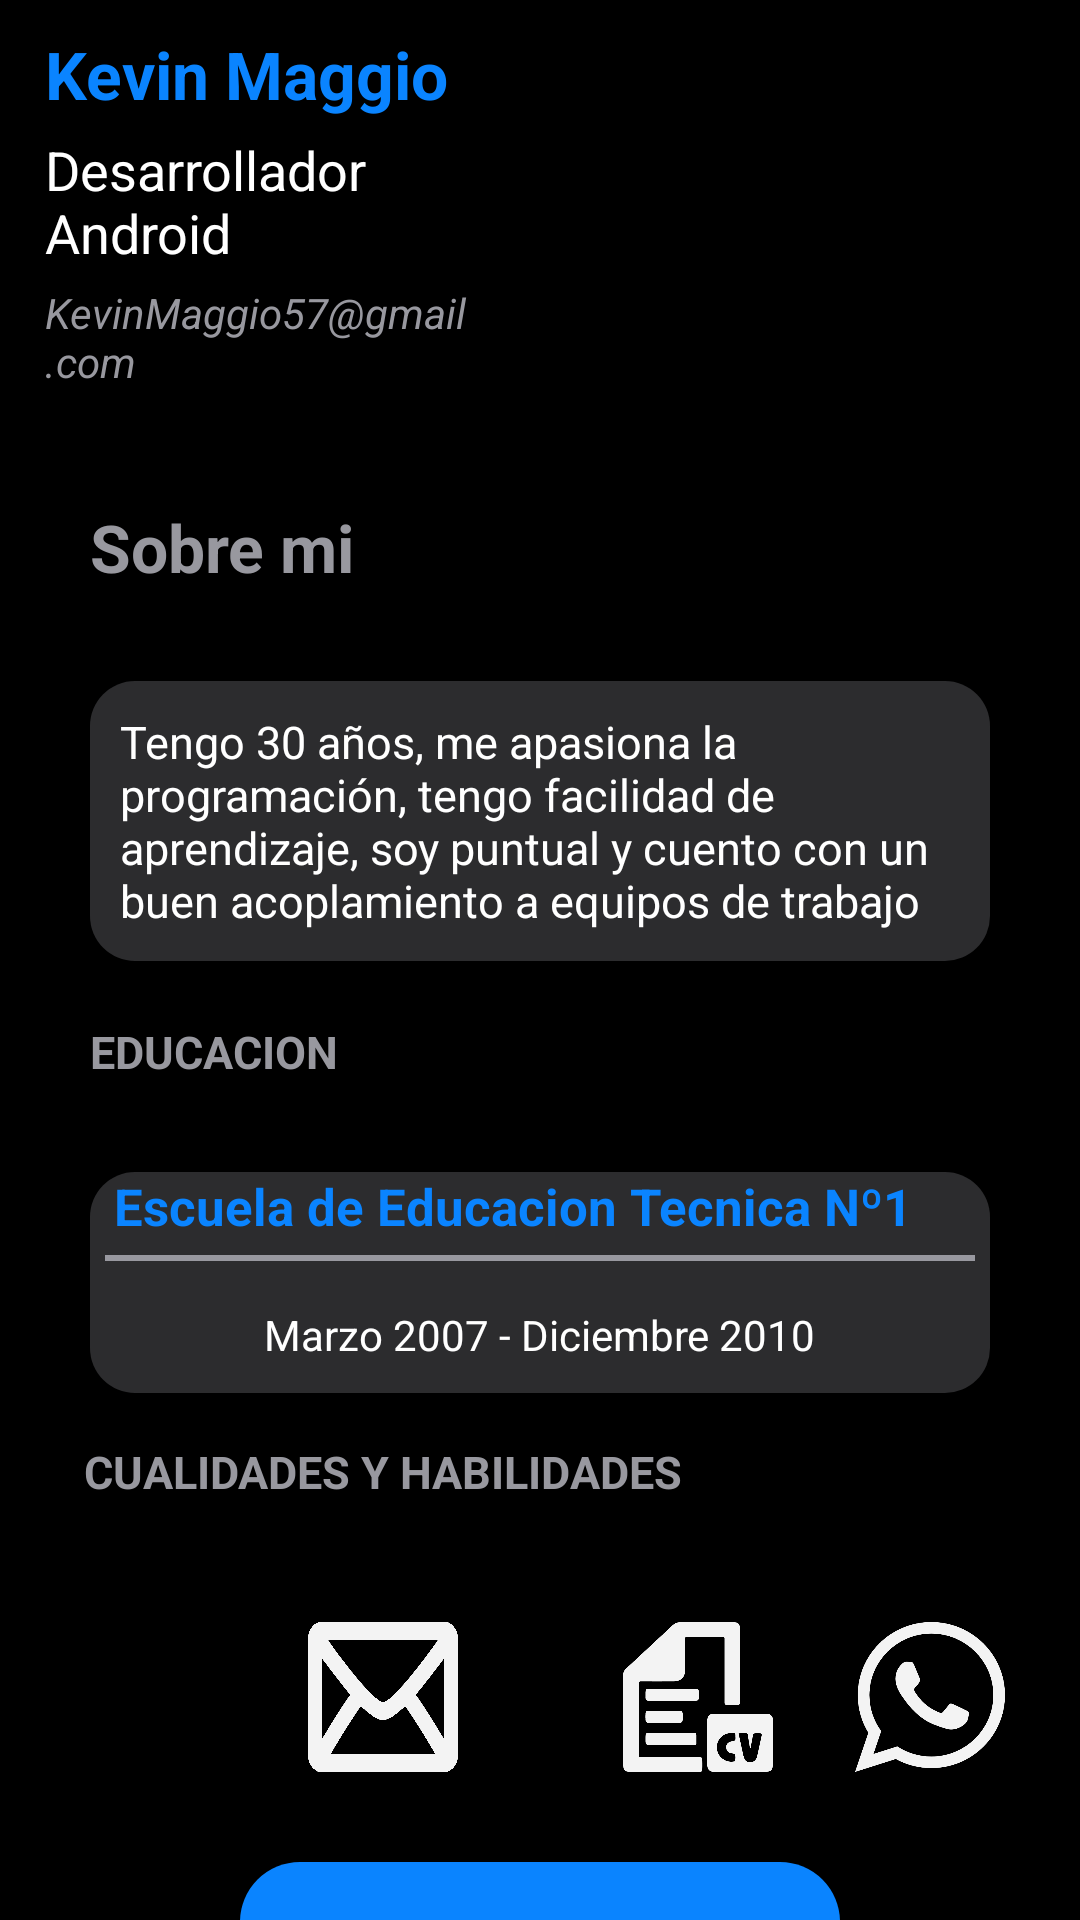

Locate icon controls on the screen. Image size 1080px x 1920px, boxes as [x1=x1, y1=y1, x2=x2, y2=y2].
correo: [x1=308, y1=1622, x2=458, y2=1772]
